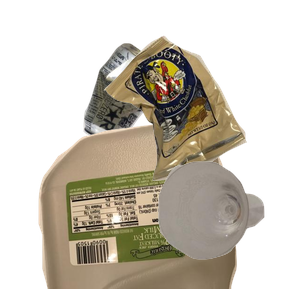glass: (156, 159, 300, 300)
metal: (81, 41, 234, 178)
plastic: (36, 120, 265, 300)
trash: (101, 33, 300, 206)
